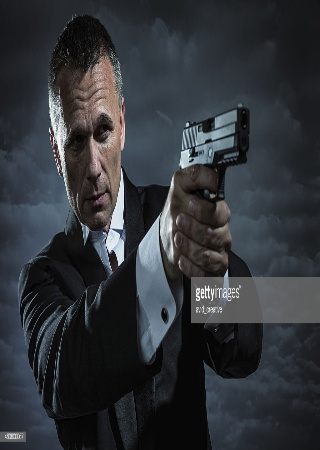handgun: (176, 107, 252, 174)
